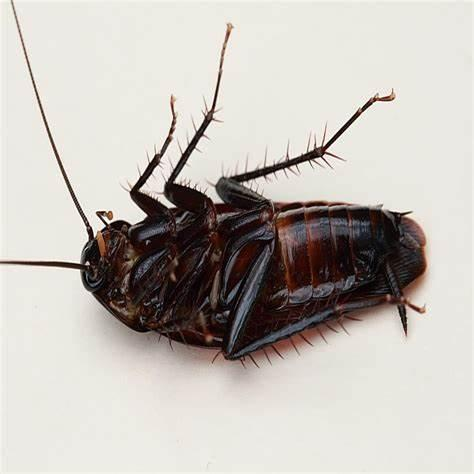cockroach: (67, 144, 433, 368)
